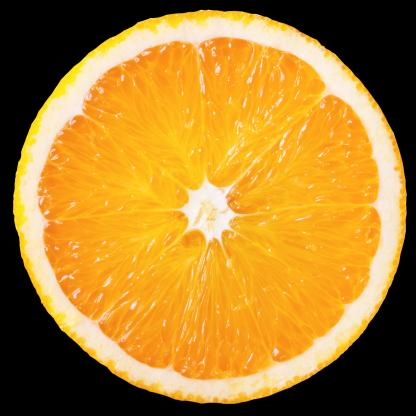---: (13, 5, 412, 410)
